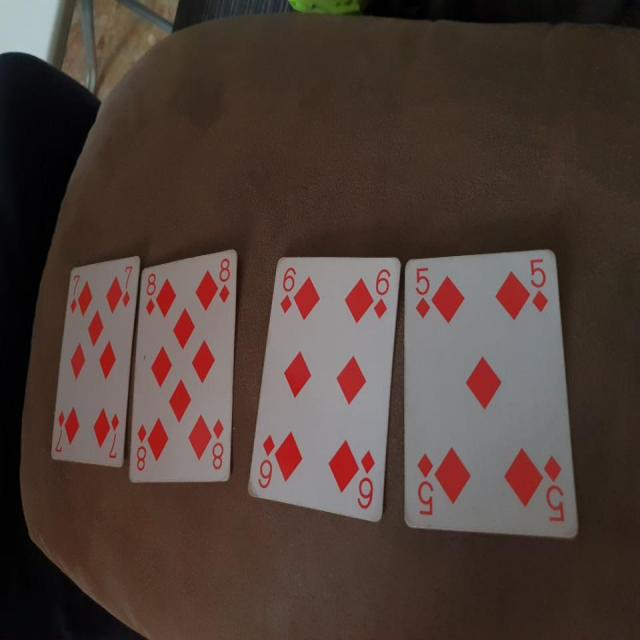5 Diamonds: (402, 242, 582, 540)
6 Diamonds: (247, 256, 400, 519)
7 Diamonds: (49, 256, 142, 469)
8 Diamonds: (128, 248, 239, 486)
